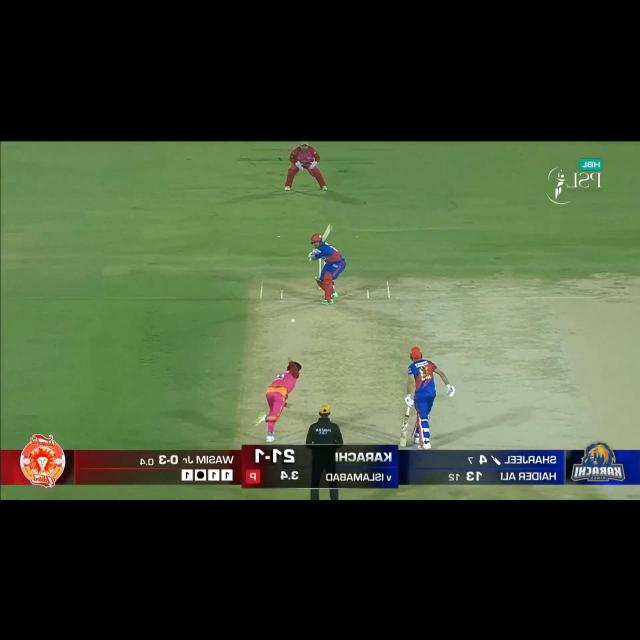bat: (399, 415, 411, 449), (322, 223, 332, 240)
toe: (398, 442, 409, 448), (327, 224, 332, 232)
